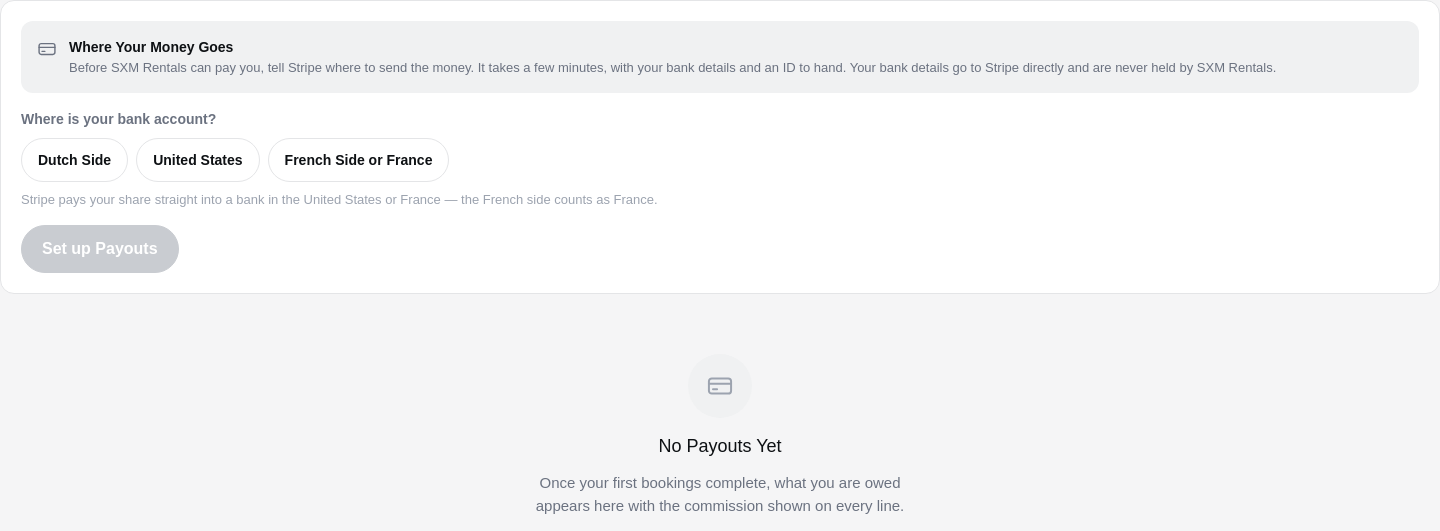
Test: setting up where the money goes › pays a bank on the Dutch side by bank transfer, without sending anybody to Stripe
The image size is (1440, 531).
Click the button "Dutch Side" at [75, 160], box [21, 138, 128, 182]
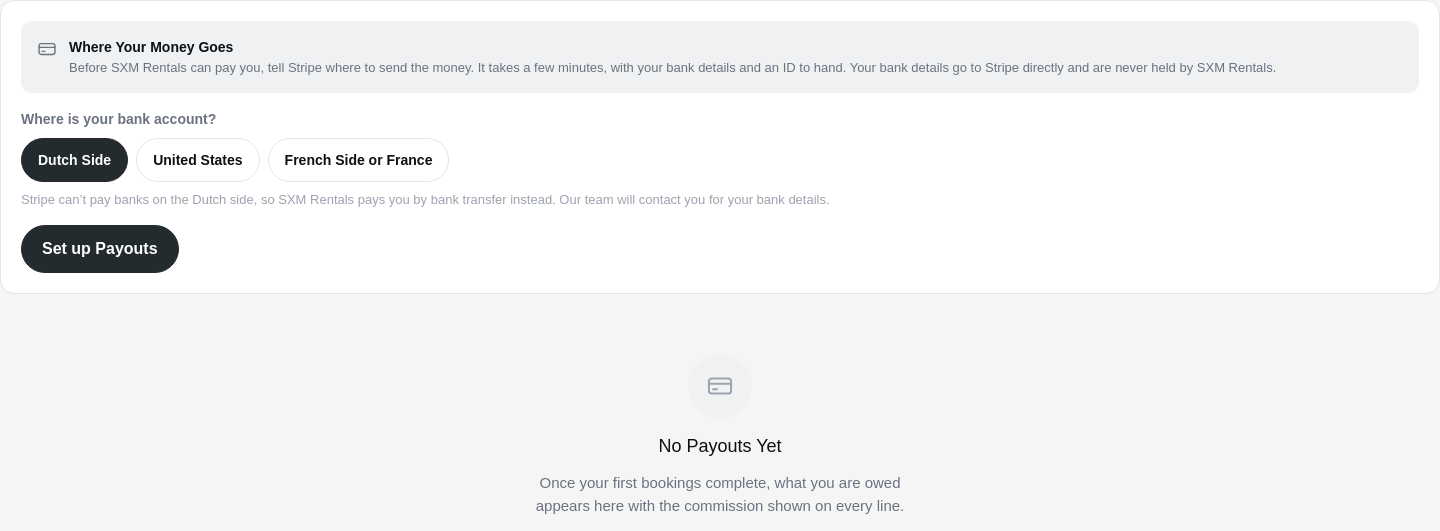
expect the text "pays you by bank transfer instead" is shown: met, box [21, 192, 830, 207]
Click the button "Set up Payouts" at [100, 249], box [21, 225, 179, 273]
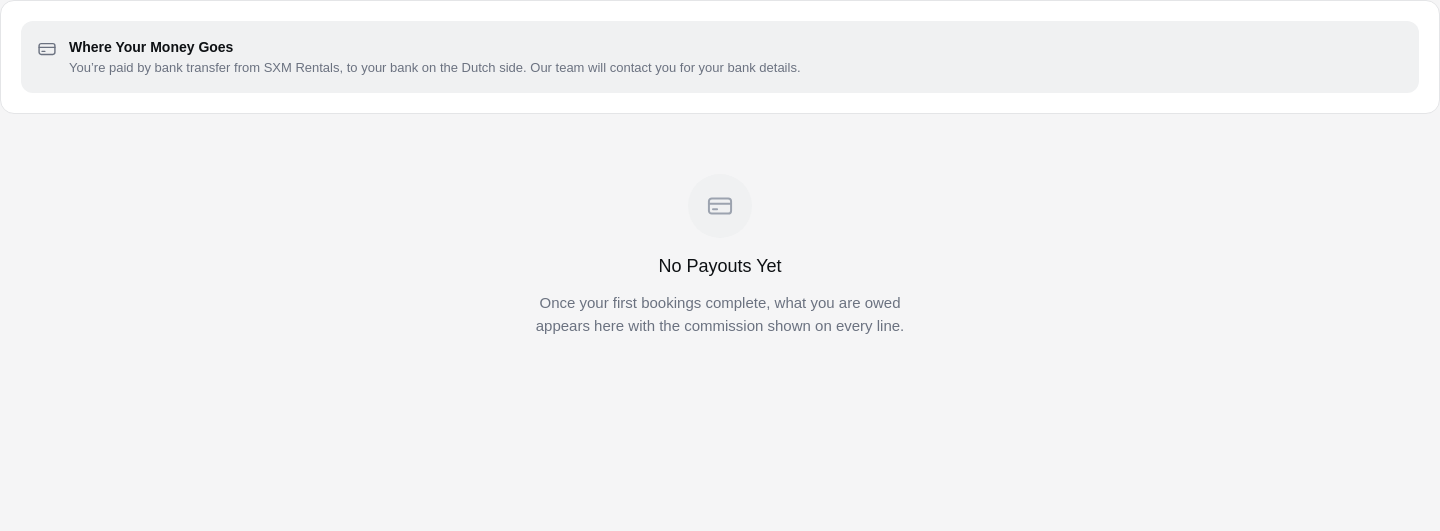
expect the text "You’re paid by bank transfer from SXM Rentals" is shown: met, box [69, 60, 800, 75]
expect the text "Set up Payouts" is gone: met
